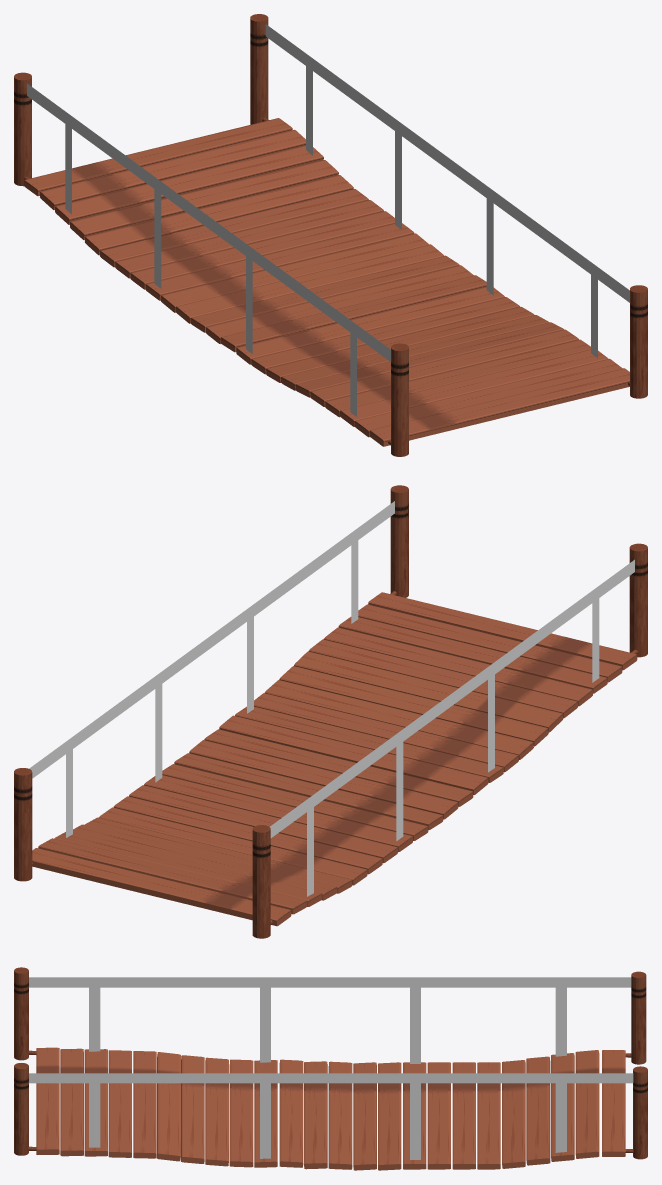
Rendered from PuenteMadera.fbx.
3 views of the same model, one above another, from view 1: azimuth 30°, elevation 25°; view 2: azimuth 150°, elevation 25°; view 3: azimuth 270°, elevation 25° (orthographic). The views are drawn at different scales.
Parts seen in each view (by area): view 1: Tabla.023, Tabla002, Cuerda.001, Tabla.003, Cuerda, Tabla.001, Tabla.004, Soporte_B, Tabla, Soporte_A, Tabla.010, Tabla.006 (+22 smaller); view 2: Tabla, Cuerda.001, Cuerda, Tabla.018, Tabla.017, Tabla.013, Soporte_A, Tabla011, Tabla.016, Soporte_B, Tabla.020, Tabla.023 (+22 smaller); view 3: Cuerda, Cuerda.001, Soporte_A, Soporte_B, Tabla.003, Tabla011, Tabla.001, Tabla.013, Tabla.015, Tabla.005, Tabla.010, Tabla.018 (+24 smaller).
Boxes of the visible parts, <box> form: Tabla.023: <box>369,368,629,446</box>; Tabla002: <box>55,145,323,224</box>; Cuerda.001: <box>27,83,390,361</box>; Tabla.003: <box>70,160,338,240</box>; Cuerda: <box>265,24,629,302</box>; Tabla.001: <box>40,129,305,209</box>; Tabla.004: <box>85,175,353,255</box>; Soporte_B: <box>391,285,647,456</box>; Tabla: <box>24,118,292,196</box>; Soporte_A: <box>14,14,268,186</box>; Tabla.010: <box>175,244,444,323</box>; Tabla.006: <box>115,200,383,278</box>; Tabla: <box>32,848,291,926</box>; Cuerda.001: <box>270,559,634,838</box>; Cuerda: <box>29,501,394,778</box>; Tabla.018: <box>294,651,563,732</box>; Tabla.017: <box>279,666,548,746</box>; Tabla.013: <box>219,715,488,794</box>; Soporte_A: <box>14,768,270,938</box>; Tabla011: <box>189,740,458,819</box>; Tabla.016: <box>264,680,533,759</box>; Soporte_B: <box>390,485,647,657</box>; Tabla.020: <box>323,627,592,706</box>; Tabla.023: <box>368,592,637,670</box>; Cuerda: <box>29,1073,633,1083</box>; Cuerda.001: <box>29,977,631,987</box>; Soporte_A: <box>631,971,647,1159</box>; Soporte_B: <box>14,967,28,1155</box>; Tabla.003: <box>526,1056,550,1165</box>; Tabla011: <box>328,1061,352,1169</box>; Tabla.001: <box>575,1050,599,1158</box>; Tabla.013: <box>279,1059,303,1167</box>; Tabla.015: <box>229,1059,253,1167</box>; Tabla.005: <box>477,1062,500,1169</box>; Tabla.010: <box>353,1062,376,1170</box>; Tabla.018: <box>157,1052,180,1161</box>.
Bounding box in the file's own units: 372 × 172 × 977.
